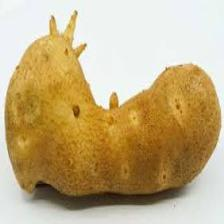Sprouted potato: (0, 1, 224, 204)
